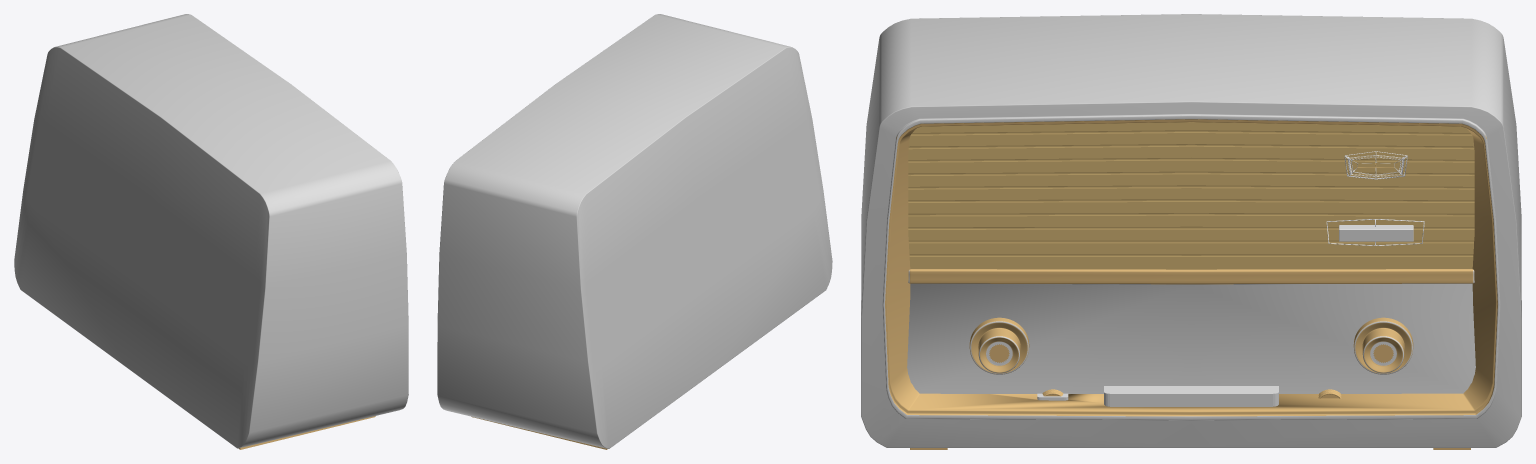
File: radio.fbx
The picture shows the model from 3 angles, left to right: view 1: azimuth 30°, elevation 25°; view 2: azimuth 150°, elevation 25°; view 3: azimuth 270°, elevation 25°; orthographic projection. The views are drawn at different scales.
Parts seen in each view (by area): view 1: body; view 2: body; view 3: body, speaker grill, panel, panel knobs, switch bool, grill switch bool, Plane.003.
Part boxes in pixels (<box>): body: <box>14,14,408,449</box>; body: <box>437,14,832,449</box>; body: <box>861,14,1521,449</box>; speaker grill: <box>908,122,1474,269</box>; panel: <box>907,269,1475,393</box>; panel knobs: <box>969,317,1413,374</box>; switch bool: <box>1104,386,1278,406</box>; grill switch bool: <box>1339,225,1413,241</box>; Plane.003: <box>1344,151,1407,179</box>.
Size of the model in its own units: 176 by 262 by 437.
